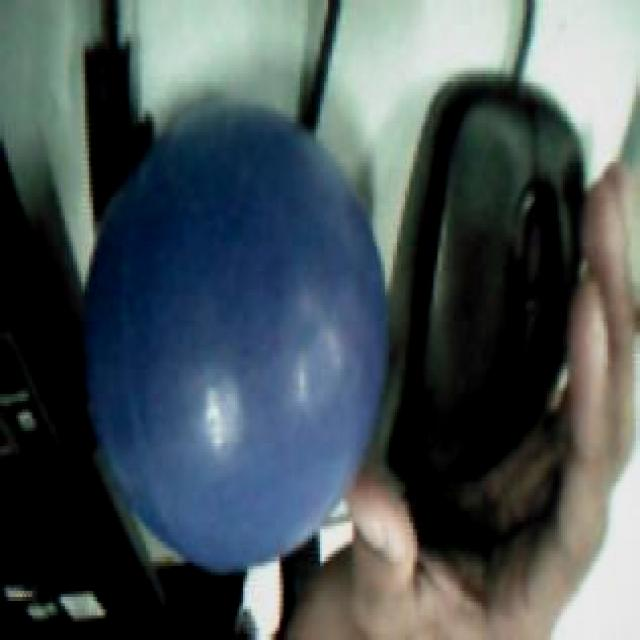BallPurple: (83, 106, 386, 574)
